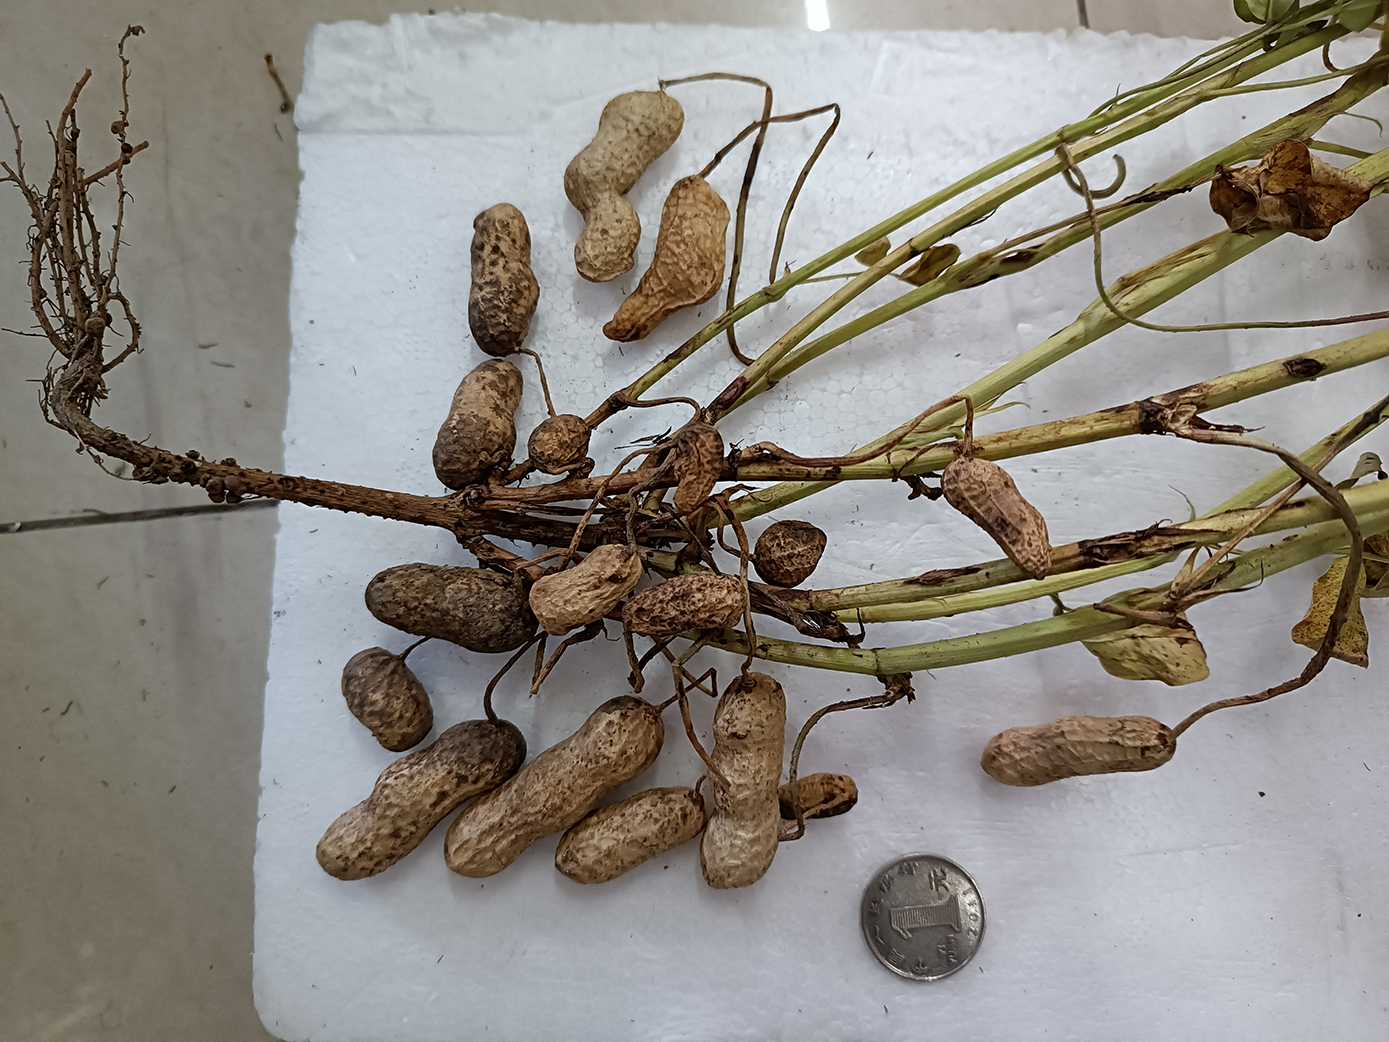h: (445, 696, 665, 877), (316, 719, 528, 881), (563, 90, 686, 281), (602, 177, 732, 341), (699, 673, 779, 887), (554, 786, 706, 884), (941, 455, 1052, 582), (980, 716, 1174, 787), (530, 543, 641, 638), (342, 647, 432, 750), (622, 574, 748, 639), (672, 422, 724, 516), (772, 773, 860, 820), (530, 414, 589, 473)
l: (364, 561, 534, 655), (467, 202, 537, 355), (754, 520, 827, 587)
